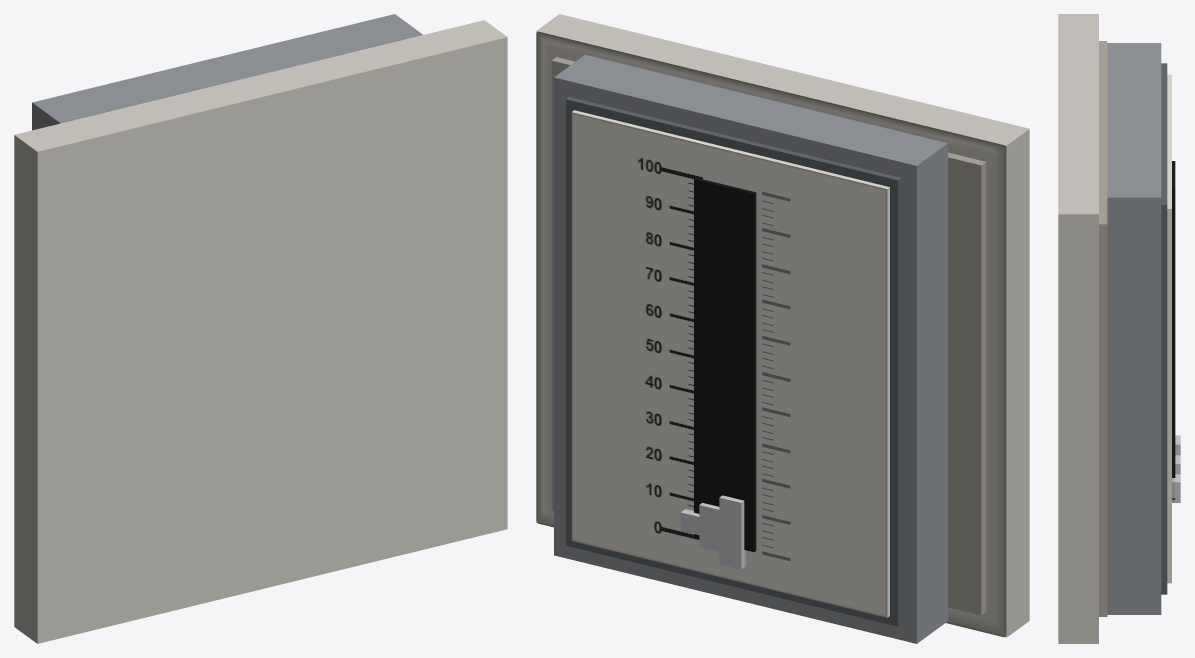
The model's file is gauge_0.obj.
The picture shows the model from 3 angles, left to right: view 1: azimuth 30°, elevation 25°; view 2: azimuth 150°, elevation 25°; view 3: azimuth 270°, elevation 25°; orthographic projection. The views are drawn at different scales.
Parts seen in each view (by area): view 1: Panel, Frame; view 2: Face, Panel, Frame, Needle; view 3: Frame, Panel, Face, Needle.
Boxes of the visible parts, bbox=[...] form: Panel: bbox=[14, 20, 507, 643]; Frame: bbox=[32, 14, 422, 130]; Face: bbox=[571, 110, 889, 617]; Panel: bbox=[536, 14, 1029, 637]; Frame: bbox=[554, 54, 947, 643]; Needle: bbox=[680, 495, 746, 569]; Frame: bbox=[1107, 43, 1167, 614]; Panel: bbox=[1058, 14, 1107, 643]; Face: bbox=[1167, 74, 1175, 583]; Needle: bbox=[1172, 435, 1180, 502].
Size of the model in its own units: 0.875 by 0.875 by 0.2262.
Materials: 1 (1 with a texture image).
